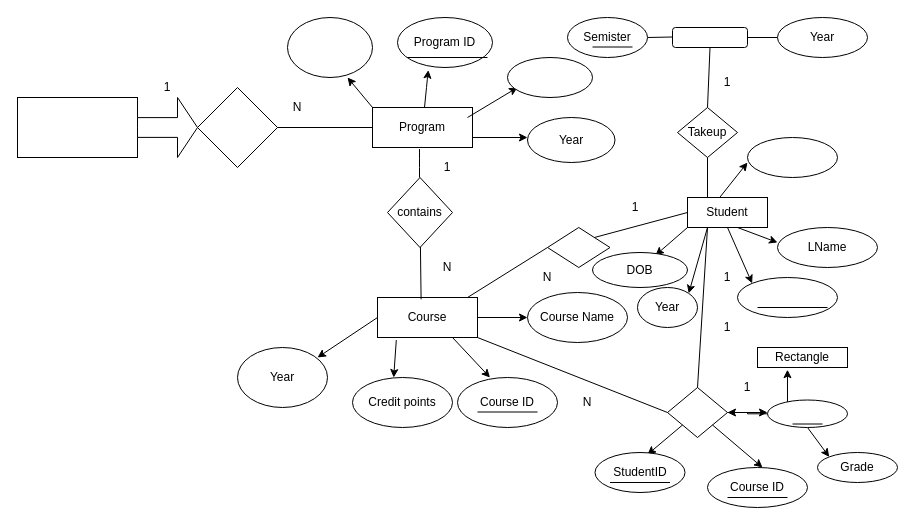
Some shapes in this 915 by 525 pixel diagram are drawn without their labels. Here are the shapes that lost their labels. From the top down, the box of each, then its label:
(286, 16, 372, 78): ProgramName
(672, 26, 748, 48): record
(506, 56, 592, 98): Credits
(16, 96, 138, 158): UNIVERSITY
(196, 86, 278, 168): offers
(746, 136, 838, 178): FName
(546, 226, 610, 268): joins
(736, 276, 838, 318): Student ID
(666, 386, 728, 438): Finish
(766, 399, 848, 428): Mark
